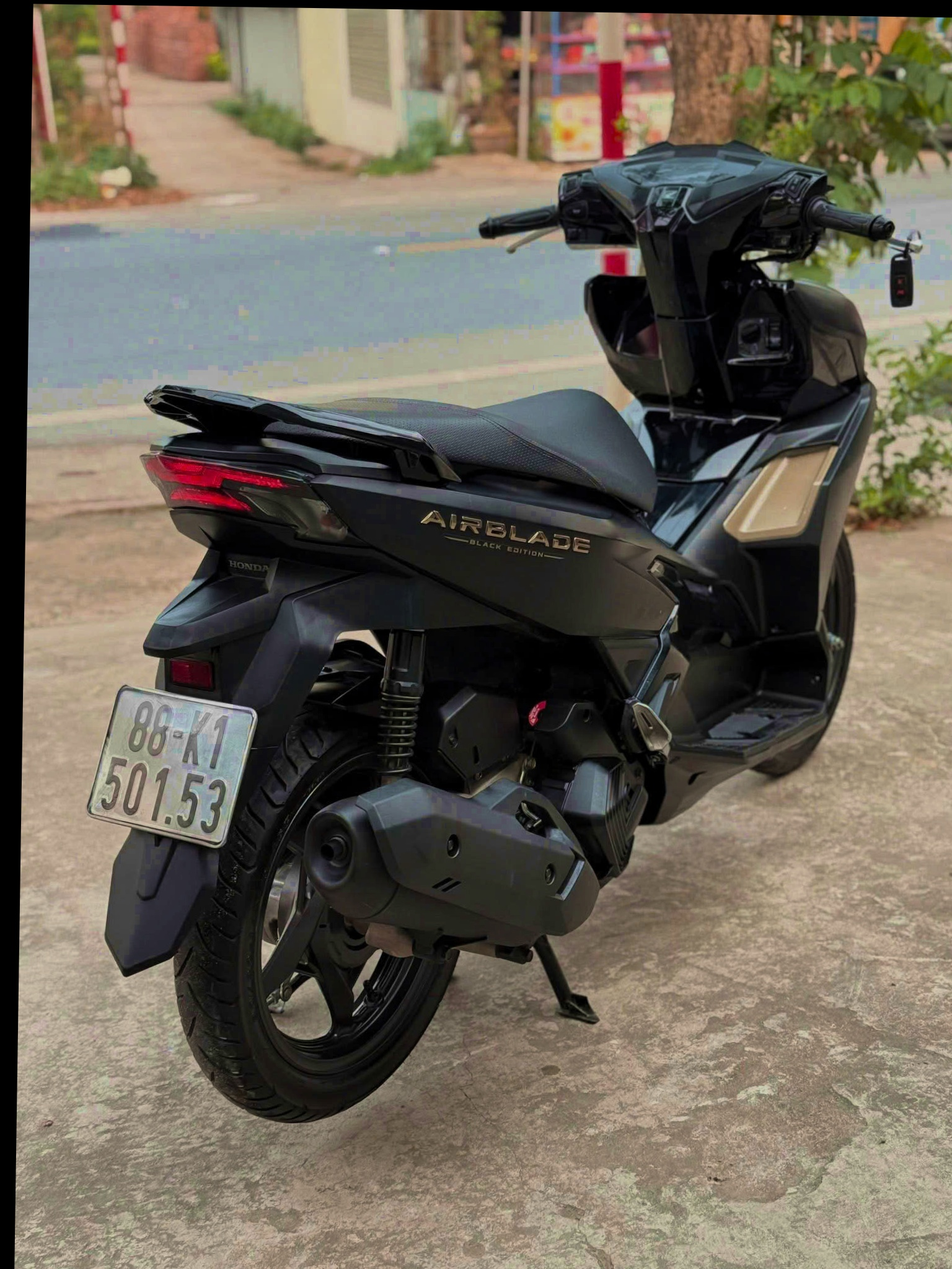Bien-so: (67, 654, 259, 829)
